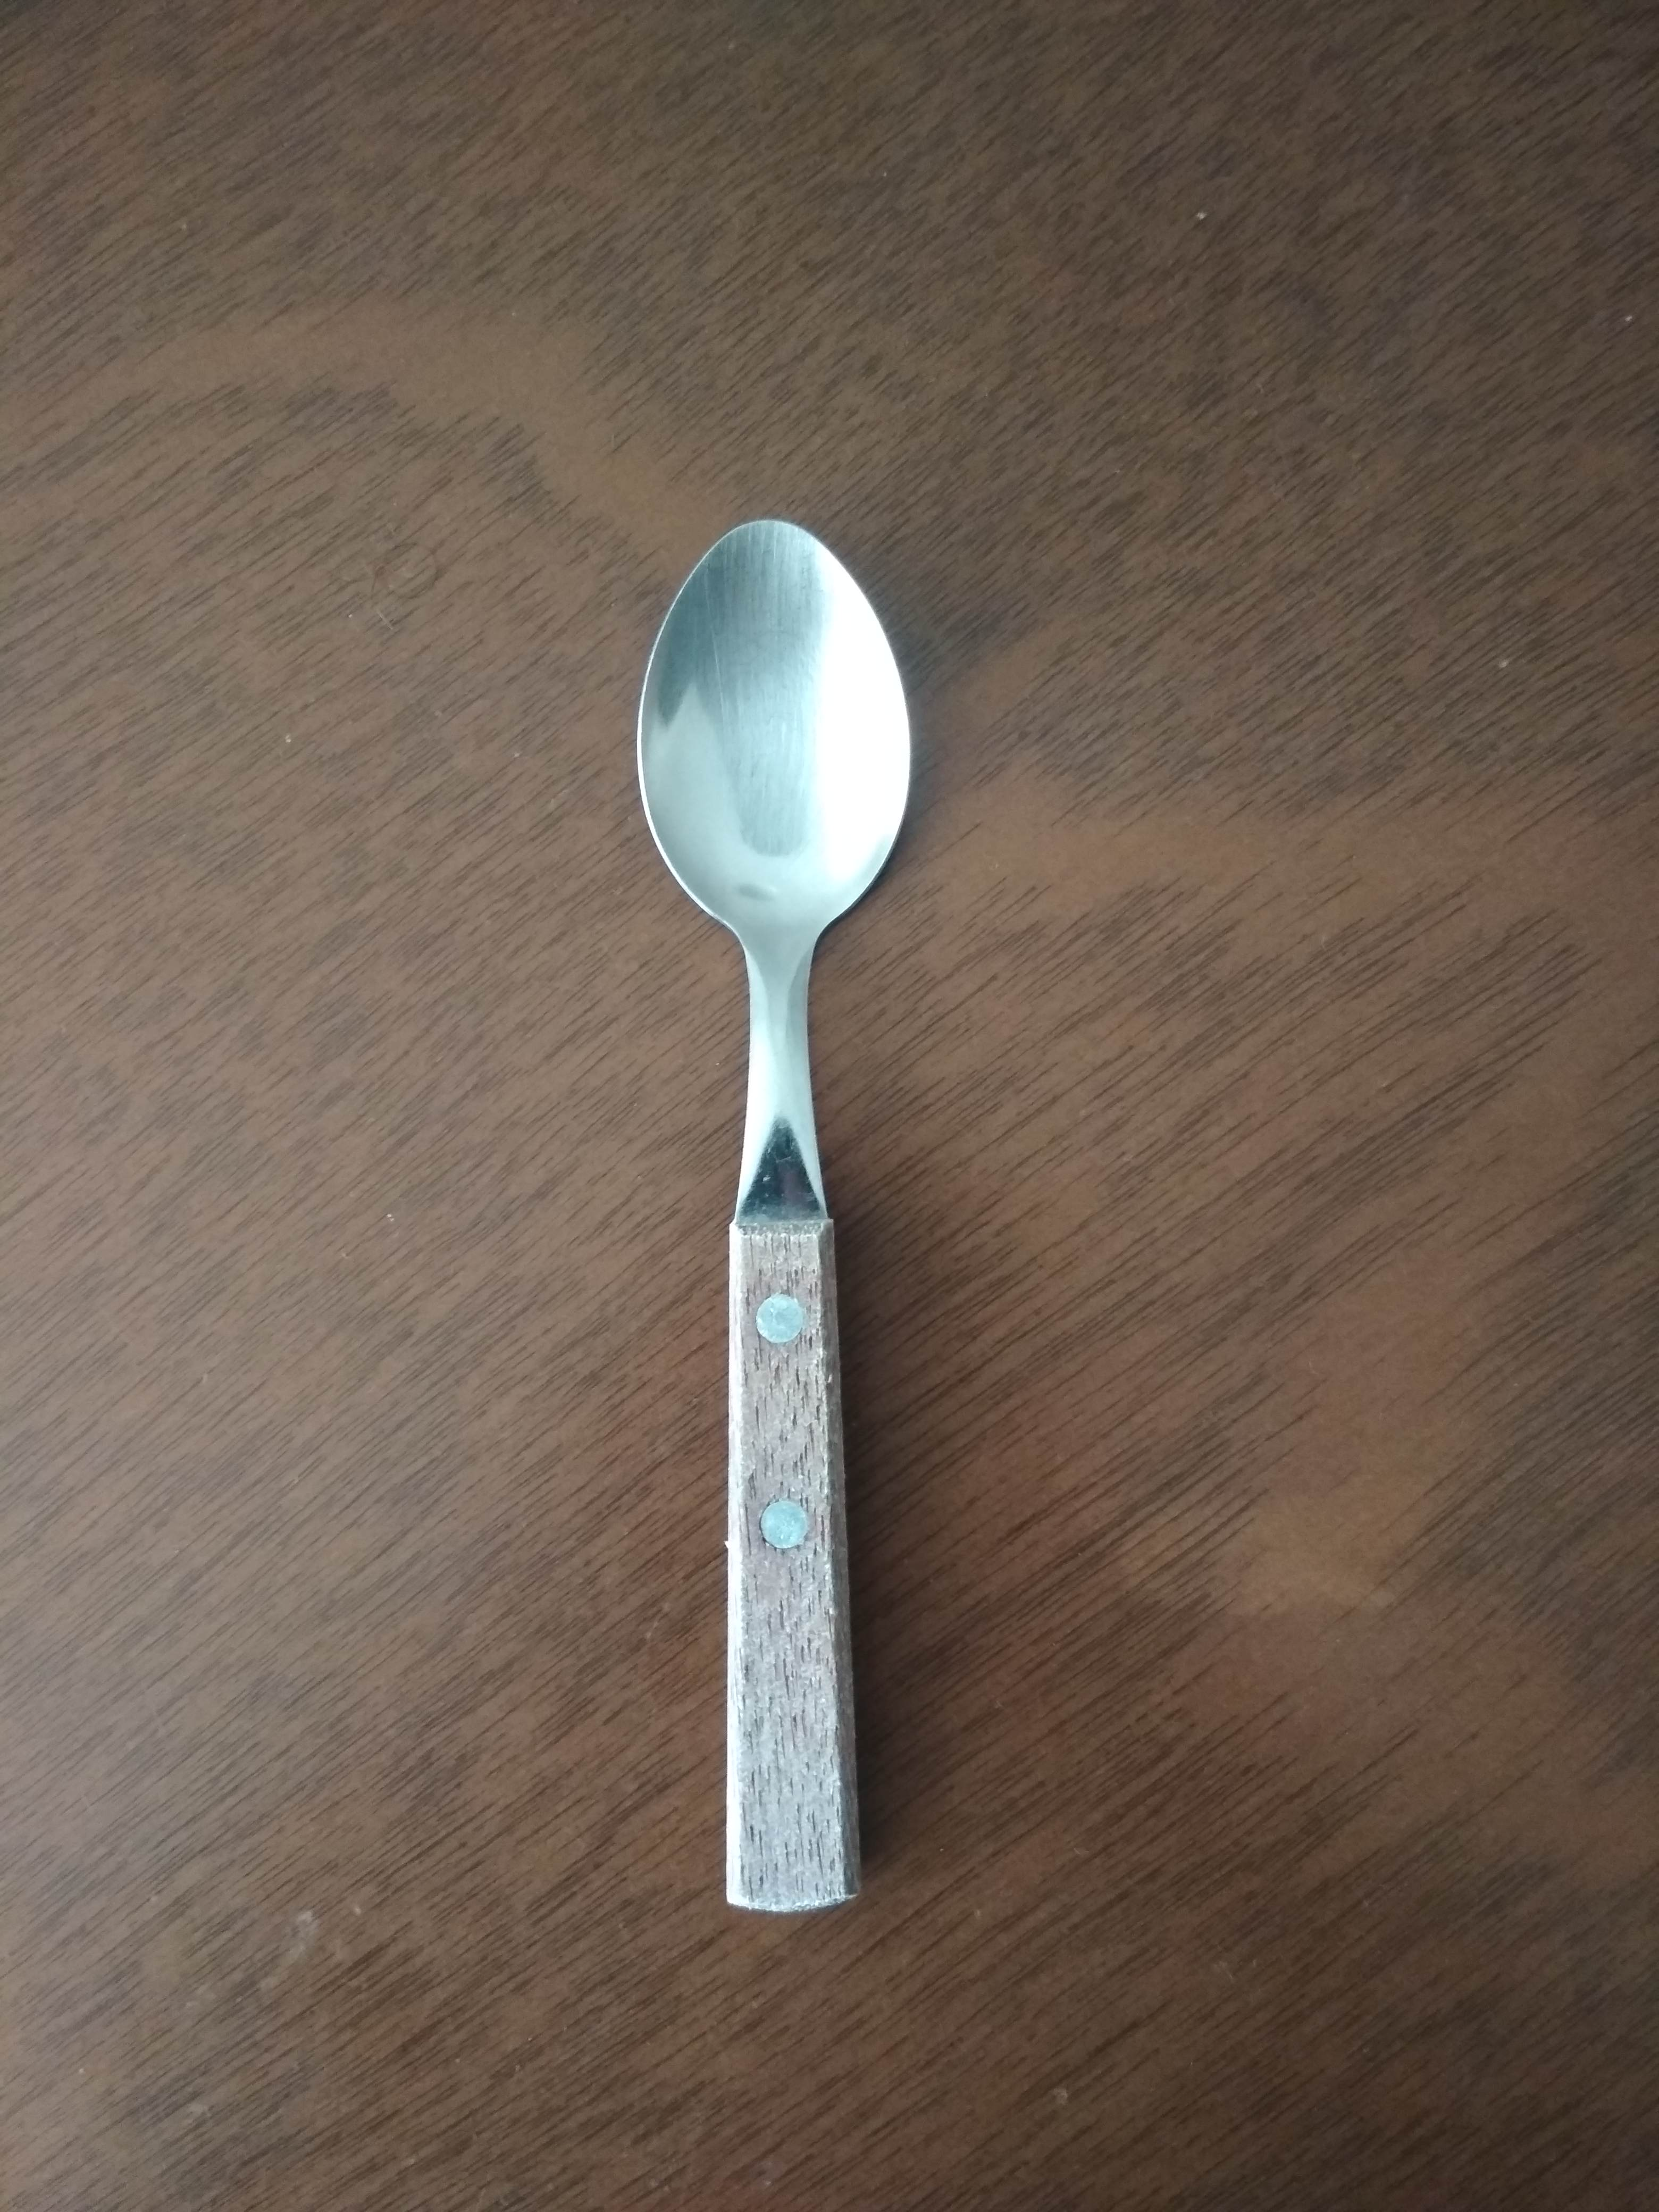spoon: (598, 491, 948, 1940)
